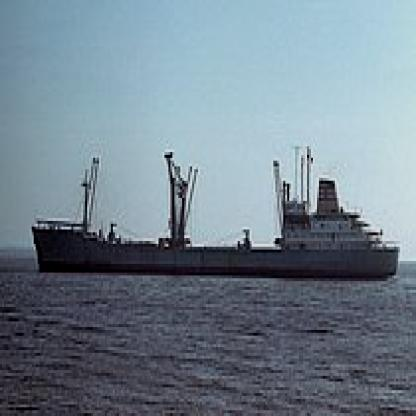Tanker: (32, 146, 398, 290)
